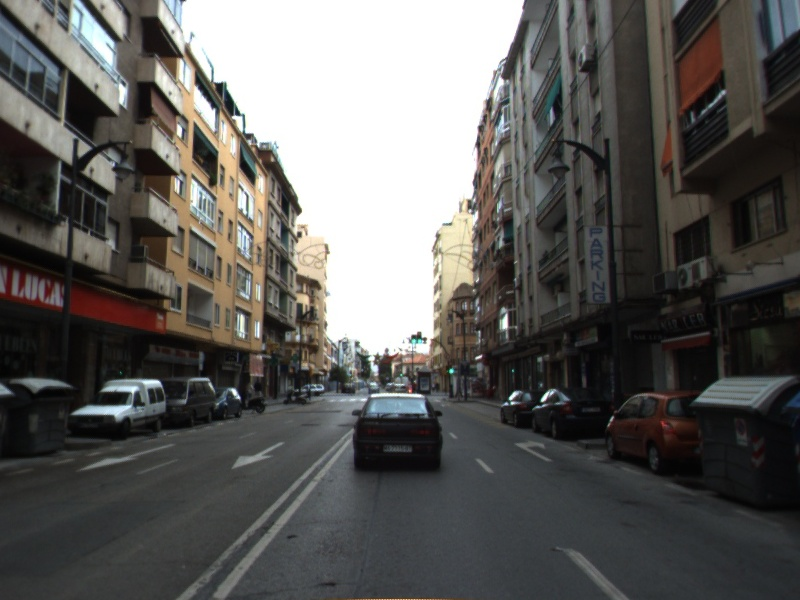RIGHT: (513, 438, 555, 463)
